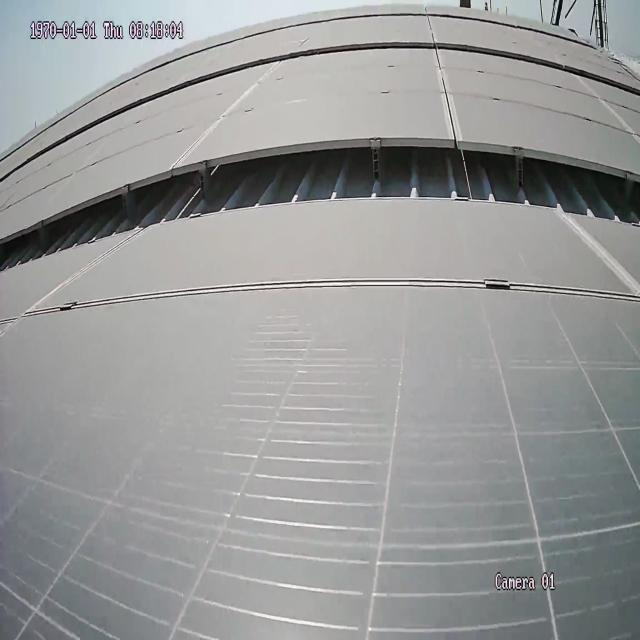interior panel: (28, 269, 638, 321), (566, 225, 640, 278), (434, 56, 458, 132)
outher panel: (0, 140, 640, 273)
